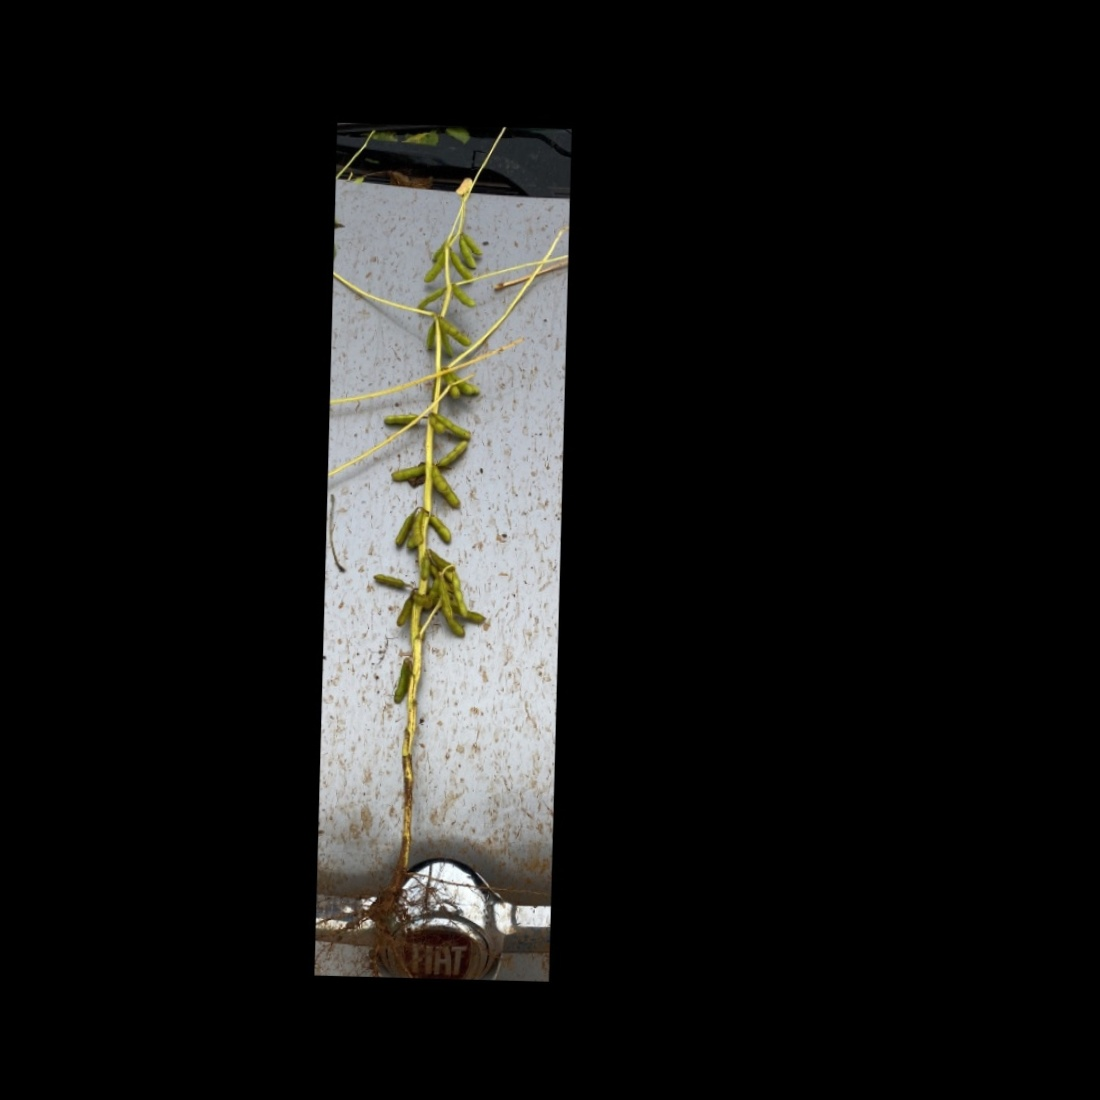pod: (416, 250, 447, 288), (432, 440, 470, 469), (428, 511, 456, 549), (390, 657, 412, 705), (449, 279, 477, 312), (384, 460, 425, 483), (414, 286, 448, 312), (369, 572, 409, 591), (381, 411, 425, 427), (394, 596, 411, 628), (425, 320, 437, 355)
soy: (340, 216, 508, 948)
